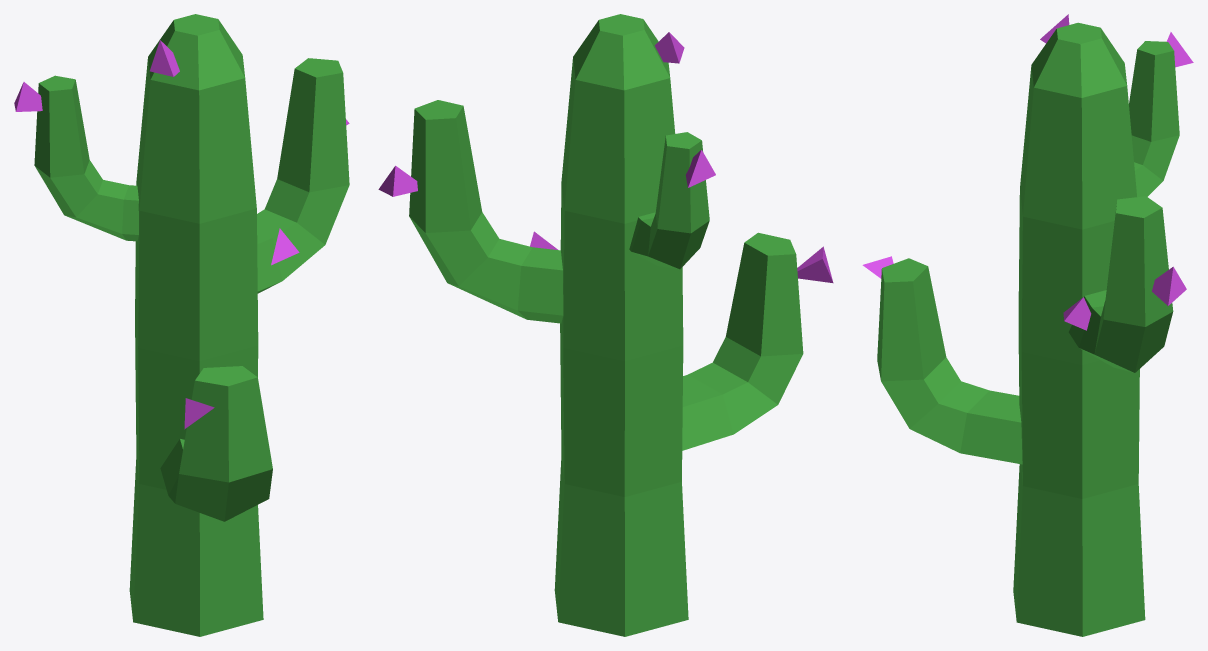
File: Cactus_6.fbx
3 views of the same model, side by side, from view 1: azimuth 30°, elevation 25°; view 2: azimuth 150°, elevation 25°; view 3: azimuth 270°, elevation 25° (orthographic).
Visible parts, largest first — view 1: Cactus, Arm.001, Arm, Arm.002, Flower.002, Flower.003, Flower.004, Flower; view 2: Cactus, Arm.001, Arm, Arm.002, Flower, Flower.001, Flower.003; view 3: Cactus, Arm, Arm.001, Arm.002, Flower.001, Flower.004.
Boxes of the visible parts, x1,y1,x2,y2 form: Cactus: [129, 14, 263, 636]; Arm.001: [257, 58, 349, 293]; Arm: [160, 366, 272, 521]; Arm.002: [34, 75, 138, 241]; Flower.002: [150, 40, 179, 76]; Flower.003: [14, 82, 42, 111]; Flower.004: [271, 228, 299, 265]; Flower: [184, 398, 214, 429]; Cactus: [554, 14, 688, 636]; Arm.001: [409, 100, 563, 323]; Arm: [682, 232, 803, 450]; Arm.002: [629, 132, 709, 269]; Flower: [797, 246, 833, 283]; Flower.001: [378, 165, 417, 196]; Flower.003: [685, 150, 715, 187]; Cactus: [1013, 22, 1145, 636]; Arm: [877, 258, 1022, 464]; Arm.001: [1068, 196, 1173, 372]; Arm.002: [1129, 41, 1179, 196]; Flower.001: [1152, 266, 1186, 305]; Flower.004: [1063, 297, 1091, 330].
Size of the model in its own units: 64.65 by 107 by 56.05.
